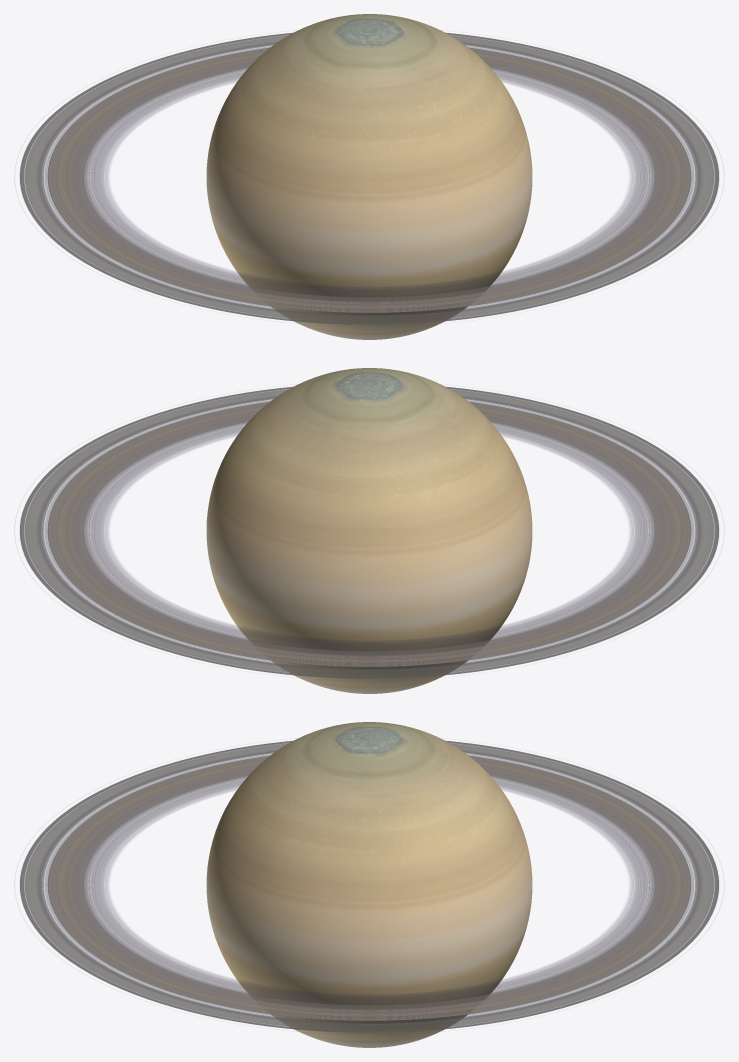
The model's file is saturn.glb.
3 views of the same model, one above another, from view 1: azimuth 30°, elevation 25°; view 2: azimuth 150°, elevation 25°; view 3: azimuth 270°, elevation 25° (orthographic).
Visible parts, largest first — view 1: Saturn; view 2: Saturn; view 3: Saturn.
Part boxes in pixels (box(x1,y1,x2,y2)): Saturn: box(20, 14, 718, 339); Saturn: box(20, 368, 718, 693); Saturn: box(20, 722, 718, 1047).
Bounding box in the file's own units: 5.36 × 2.46 × 5.36.
2 materials, 2 textured.
